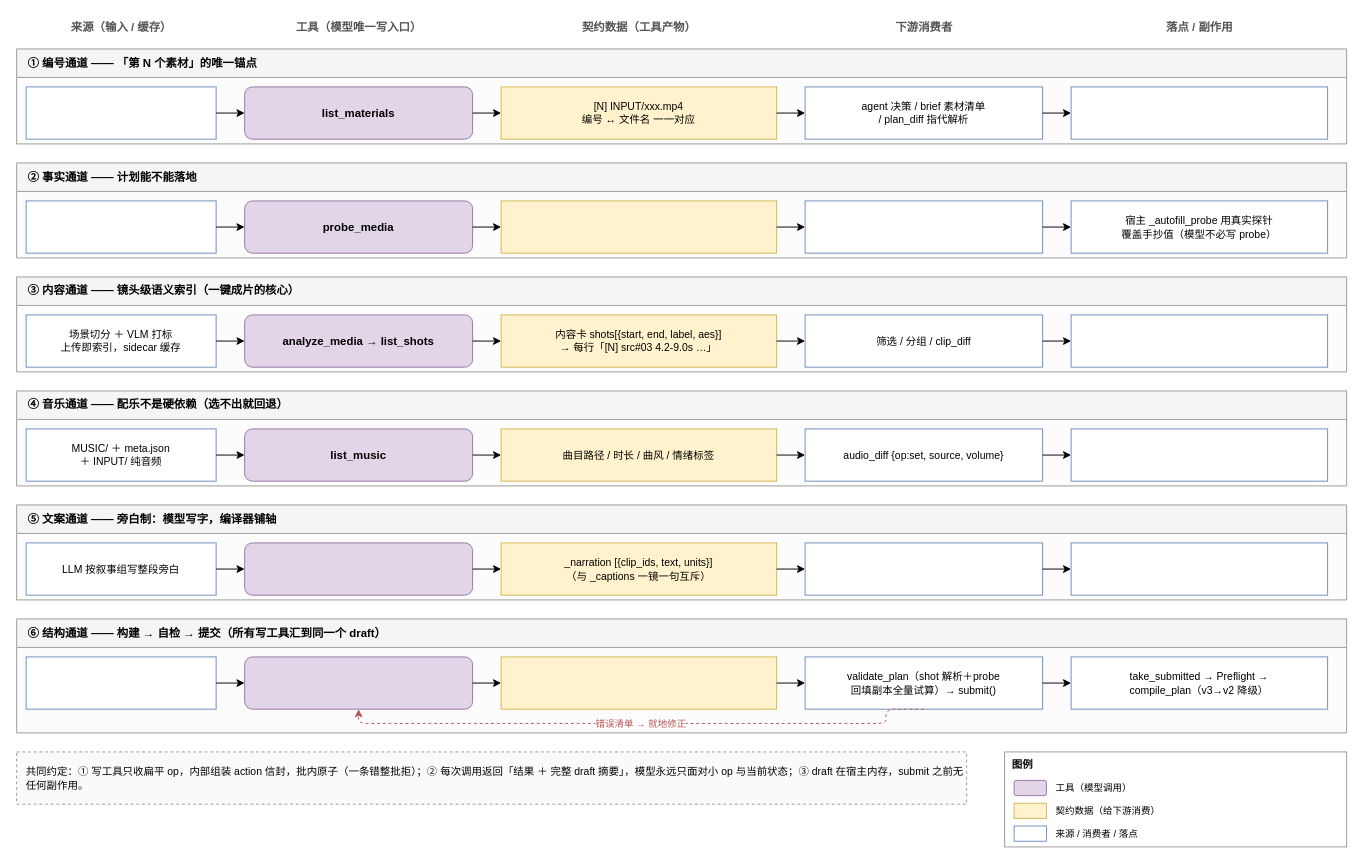
This 1363x864 diagram has some shape labels left out. The centre of each missing label's shape, as x and y in pixels:
"clip_diff {shot:3} 由宿主取卡上边界 → 时间戳誊抄从结构上消失" belongs at point 1199,340.
"draft v3（plan_tools._STATE 单例） 信封原子应用，每次返回摘要" belongs at point 638,682.
"draft.audio → 编译器 _mix_bgm 原声默认静音；可 snap_beats" belongs at point 1199,454.
"duration / width / height / has_audio" belongs at point 638,226.
"ffprobe 元数据" belongs at point 120,226.
"INPUT/ 文件名序 （＝界面素材库顺序）" belongs at point 120,112.
"LLM 判断顺序 / 转场 / 变速" belongs at point 120,682.
"set_narration / set_captions" belongs at point 358,568.
"set_project → clip_diff → timeline_diff / effect_diff / overlay_diff" belongs at point 358,682.
"可行性自检：素材够不够长、 有没有音轨可配乐" belongs at point 923,226.
"四方同源：界面徽标 · 工具输出 · brief · 闸门，同一编号不错位" belongs at point 1199,112.
"按字数加权铺轴 → text overlays 一句可跨剪辑点，模型不写时间戳" belongs at point 1199,568.
"编译器 _apply_narration" belongs at point 923,568.
